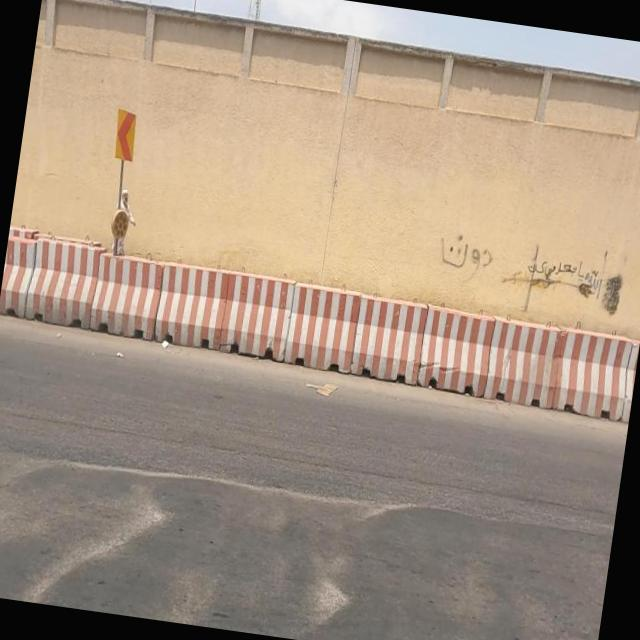debris: (436, 151, 640, 389), (367, 168, 557, 343)
